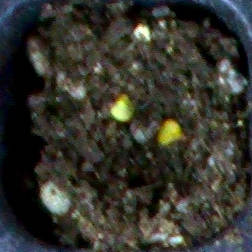pepper seed: (64, 44, 251, 190), (42, 33, 178, 154)
